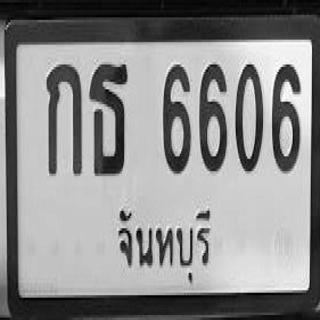A01: (40, 52, 85, 190)
A24: (85, 57, 131, 192)
N00: (232, 54, 266, 195)
N06: (156, 50, 197, 198), (194, 58, 230, 191), (269, 58, 301, 191)
P10: (110, 193, 223, 279)
